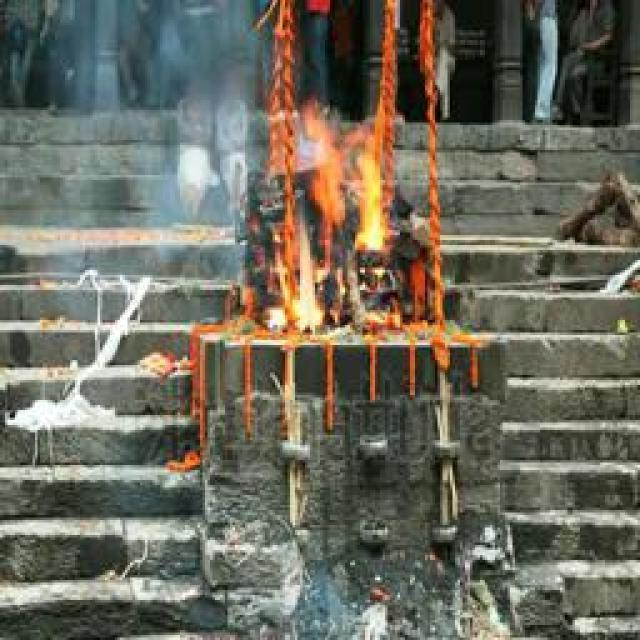Fire: (269, 101, 397, 332)
